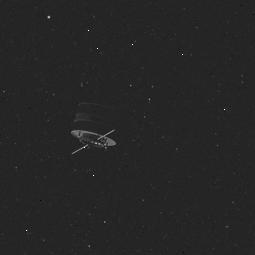double_start: (62, 92, 132, 160)
